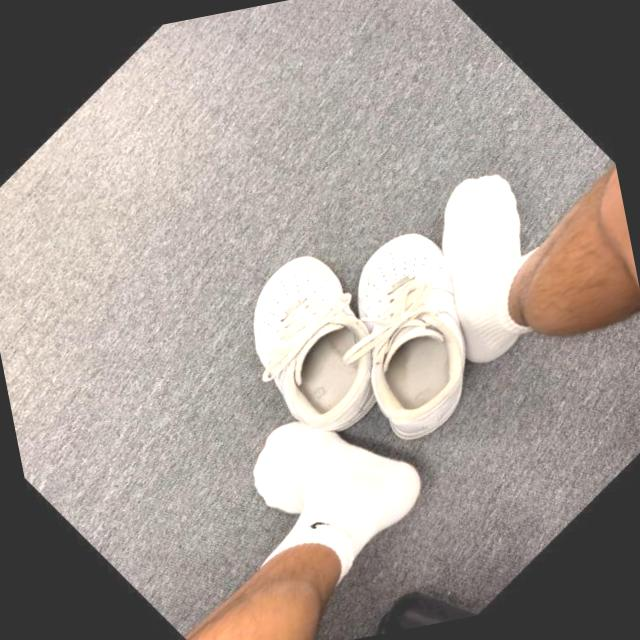nike_original_airforce: (279, 195, 555, 472), (197, 221, 447, 476)
